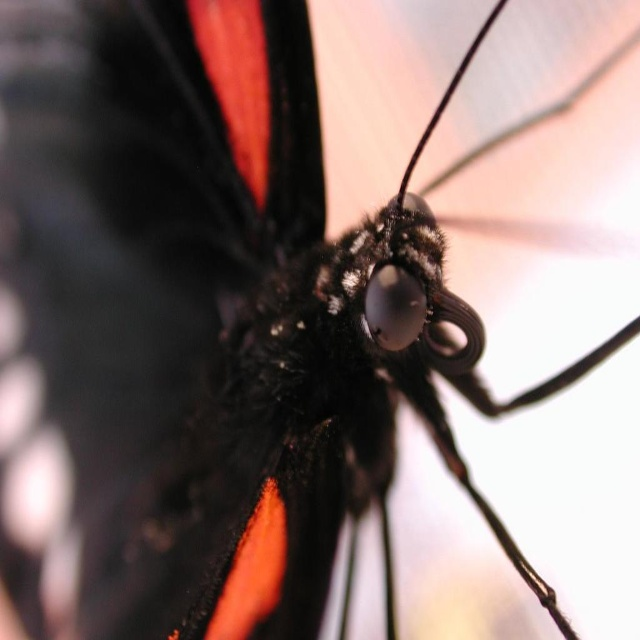Butterfly: (83, 0, 606, 640)
